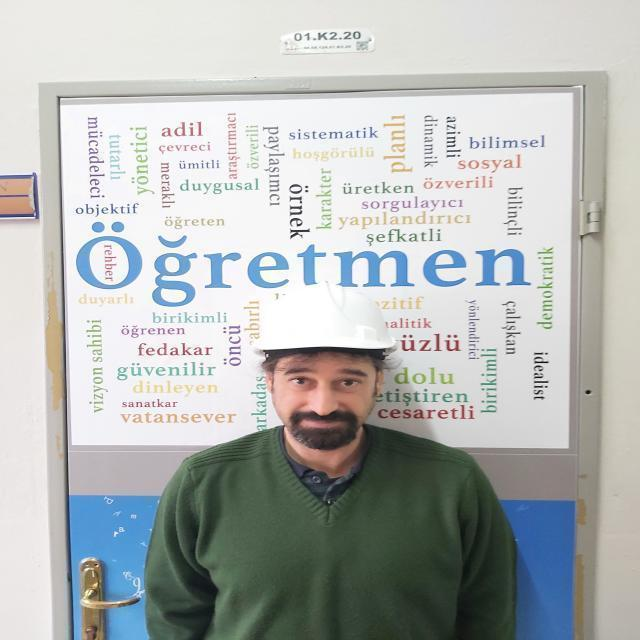white helmet: (250, 279, 399, 359)
